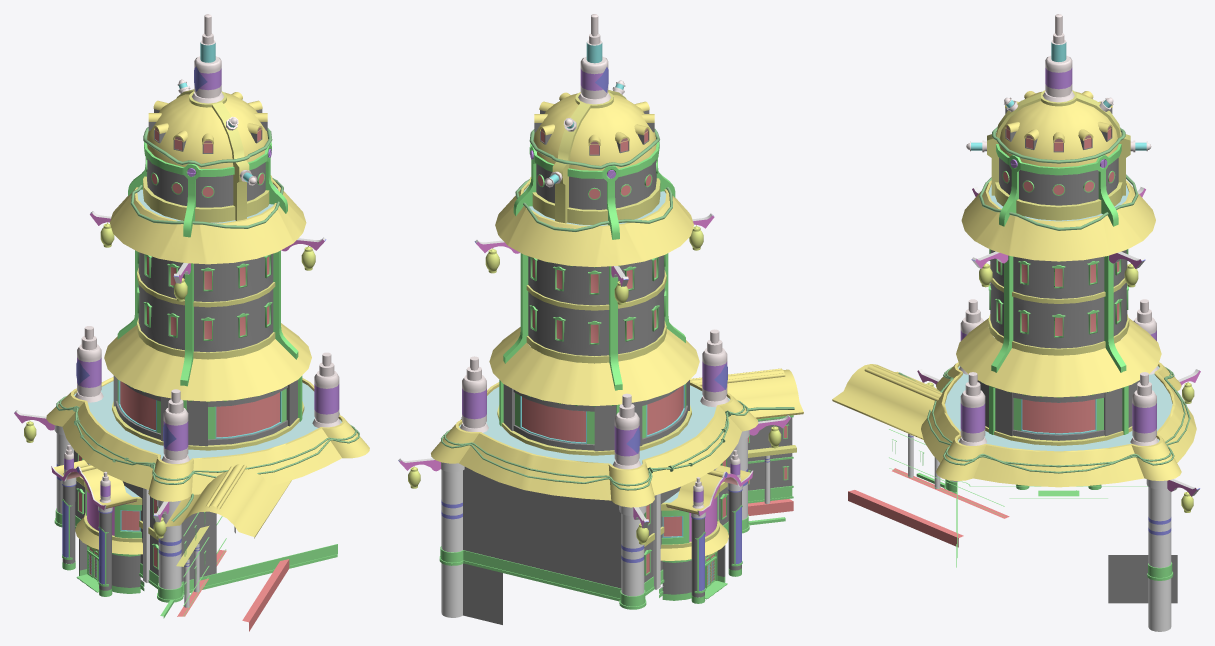
File: SM_ENV_LKNVLD_VRArena_Main_Lod1.gltf
The picture shows the model from 3 angles, left to right: view 1: azimuth 30°, elevation 25°; view 2: azimuth 150°, elevation 25°; view 3: azimuth 270°, elevation 25°; orthographic projection. The views are drawn at different scales.
Parts seen in each view (by area): view 1: SM_ENV_LKNVLD_VRArena_Main_Lod1; view 2: SM_ENV_LKNVLD_VRArena_Main_Lod1; view 3: SM_ENV_LKNVLD_VRArena_Main_Lod1.
Part boxes in pixels (<box>): SM_ENV_LKNVLD_VRArena_Main_Lod1: <box>14,14,369,631</box>; SM_ENV_LKNVLD_VRArena_Main_Lod1: <box>398,14,803,624</box>; SM_ENV_LKNVLD_VRArena_Main_Lod1: <box>832,14,1200,631</box>.
Size of the model in its own units: 30.53 by 66 by 38.75.
